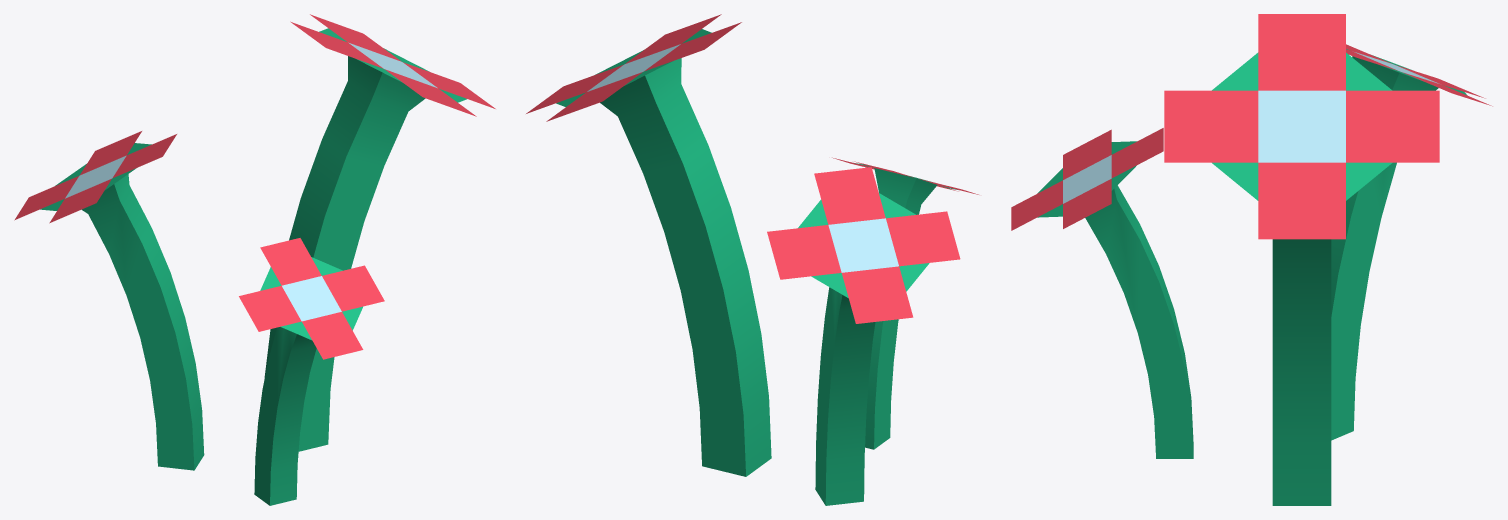
The model's file is flowers.dae.
3 views of the same model, side by side, from view 1: azimuth 30°, elevation 25°; view 2: azimuth 150°, elevation 25°; view 3: azimuth 270°, elevation 25° (orthographic). The views are drawn at different scales.
Parts seen in each view (by area): view 1: flowers; view 2: flowers; view 3: flowers.
Boxes of the visible parts, <box> form: flowers: <box>14,14,495,505</box>; flowers: <box>526,14,978,505</box>; flowers: <box>1011,14,1492,505</box>.
Size of the model in its own units: 0.4975 by 0.464 by 0.4168.
